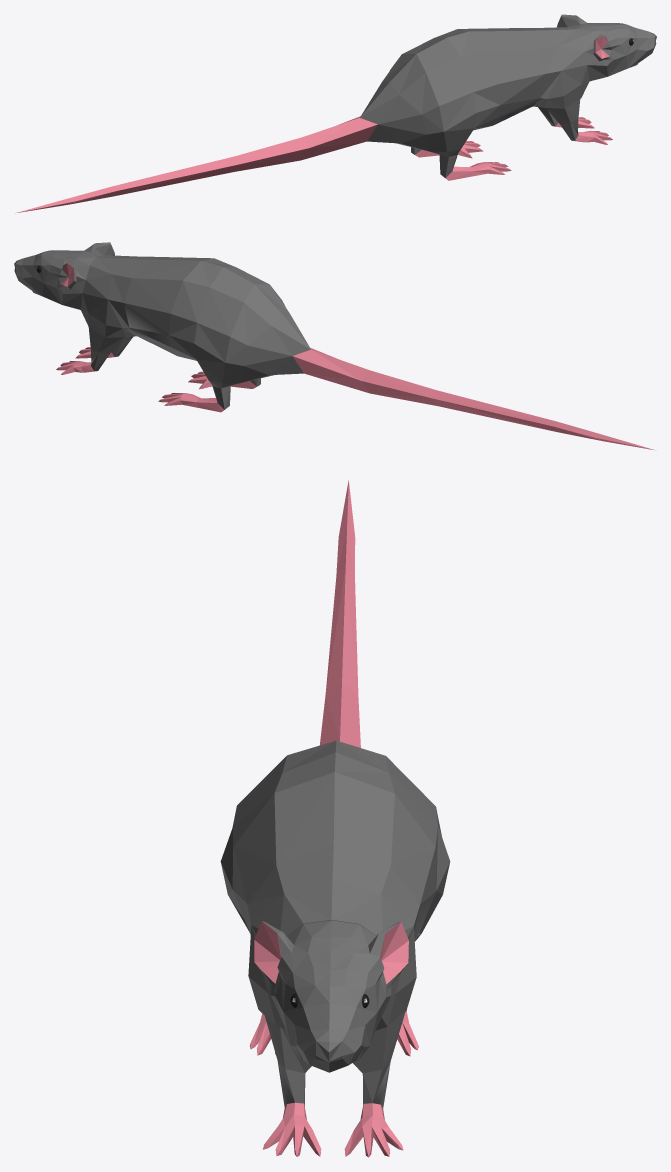
File: nezumi.fbx
3 renders of one model, top to bottom at view 1: azimuth 30°, elevation 25°; view 2: azimuth 150°, elevation 25°; view 3: azimuth 270°, elevation 25°, orthographic. The views are drawn at different scales.
Parts seen in each view (by area): view 1: Body_2.003, Body_2, Tail, Body_2.002, Head, Leg_RIght_004, Leg_RIght_001, Leg_Left_004, Leg_RIght_002, Leg_RIght_003; view 2: Body_2.003, Body_2, Tail, Body_2.002, Head, leg_Left_001, Leg_Left_004, Leg_Left_002, Leg_RIght_004; view 3: Body_2, Head, Body_2.002, Tail, Body_2.003, leg_Left_001, Leg_RIght_001, Leg_Left_002, Leg_RIght_002.
Boxes of the visible parts, x1,y1,x2,y2 form: Body_2.003: (360,37,476,156); Body_2: (434,28,545,130); Tail: (15,116,377,213); Body_2.002: (510,27,589,108); Head: (557,14,656,81); Leg_RIght_004: (445,162,511,180); Leg_RIght_001: (546,99,580,140); Leg_Left_004: (413,141,483,158); Leg_RIght_002: (572,131,612,144); Leg_RIght_003: (439,153,458,178); Body_2.003: (194,267,310,388); Body_2: (124,257,236,360); Tail: (292,348,654,450); Body_2.002: (80,255,160,337); Head: (14,242,114,309); leg_Left_001: (88,327,123,370); Leg_Left_004: (158,393,223,412); Leg_Left_002: (56,361,97,374); Leg_RIght_004: (188,371,259,389); Body_2: (220,752,450,941); Head: (254,920,408,1072); Body_2.002: (247,844,419,1030); Tail: (319,480,360,747); Body_2.003: (229,740,441,940); leg_Left_001: (353,1011,405,1108); Leg_RIght_001: (265,1016,311,1107); Leg_Left_002: (344,1103,403,1157); Leg_RIght_002: (262,1102,321,1156).
Size of the model in its own units: 2237 by 442 by 349.
